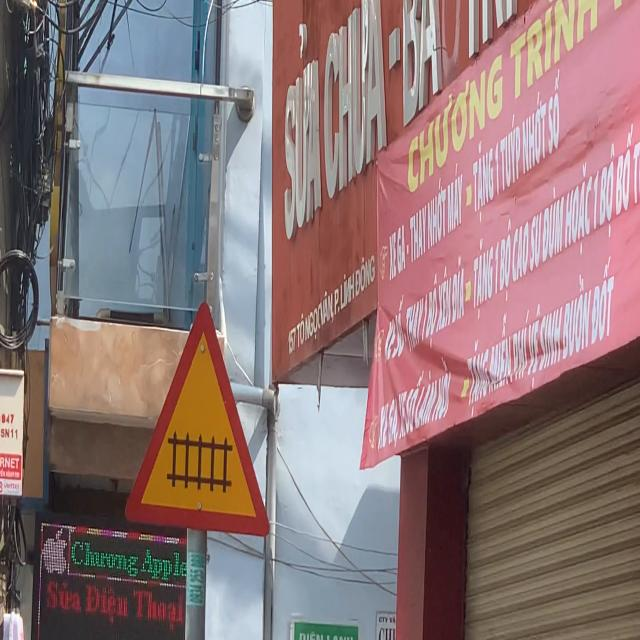Nguy hiem: (117, 270, 278, 548)
